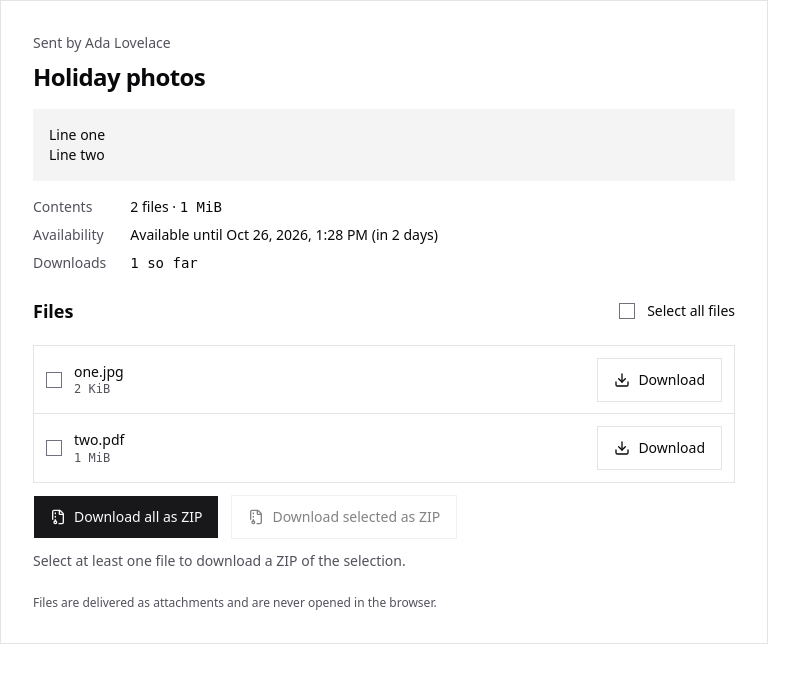
Scenario: DownloadPage › announces the start of a download and refetches the counter
Expected: the heading "Holiday photos" is shown, [33, 60, 205, 93]
Click the link with aria-label "Download one.jpg" at x=660, y=380, box [597, 358, 722, 402]
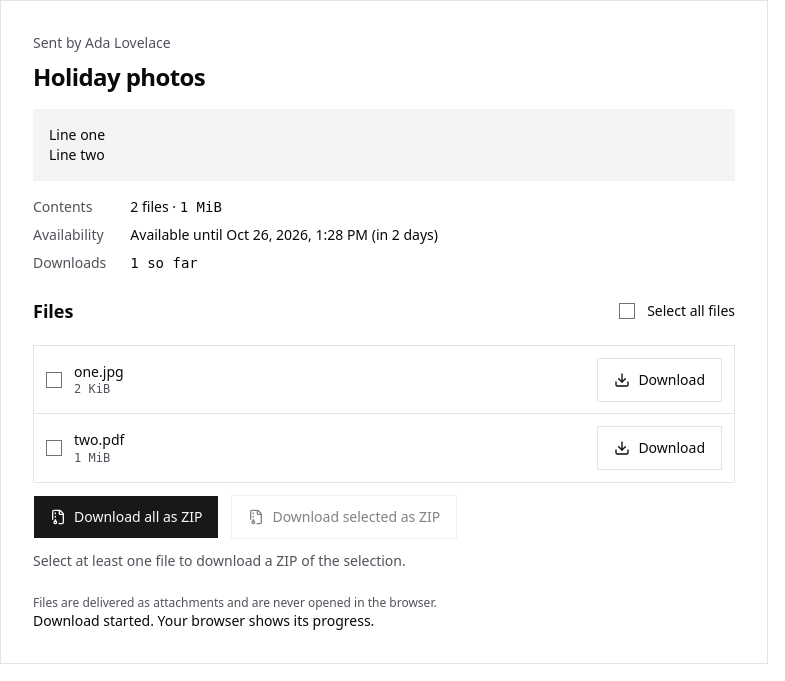
Result: the text "Download started. Your browser shows its progress." is shown at [33, 610, 374, 630]
